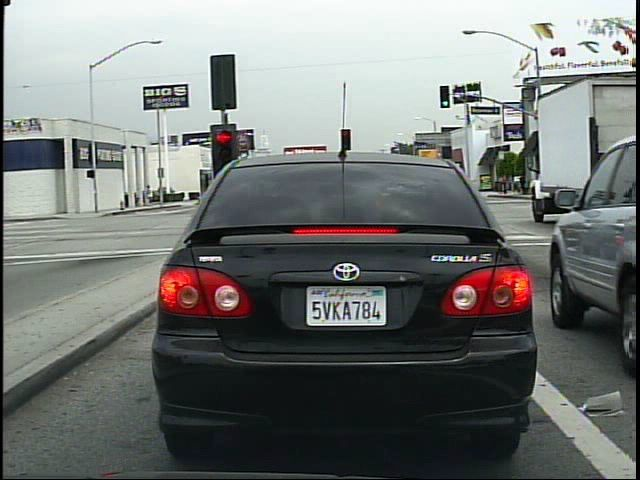person: (519, 169, 528, 198), (148, 181, 156, 208)
